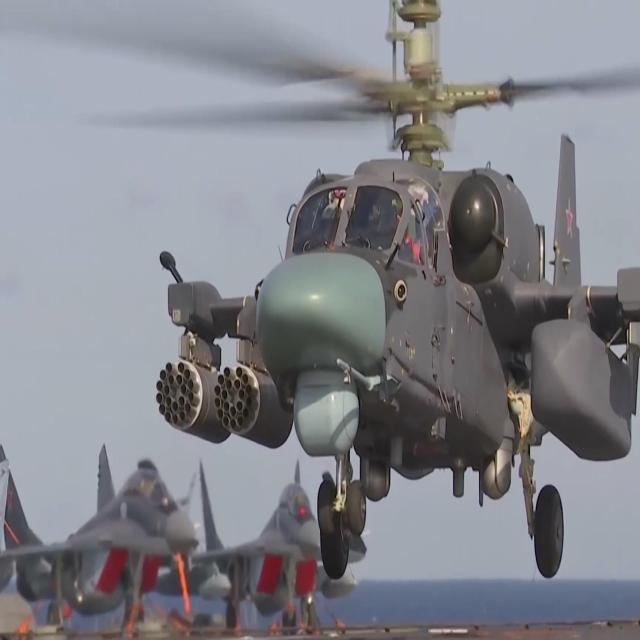MIL_HELO: (25, 0, 640, 580)
